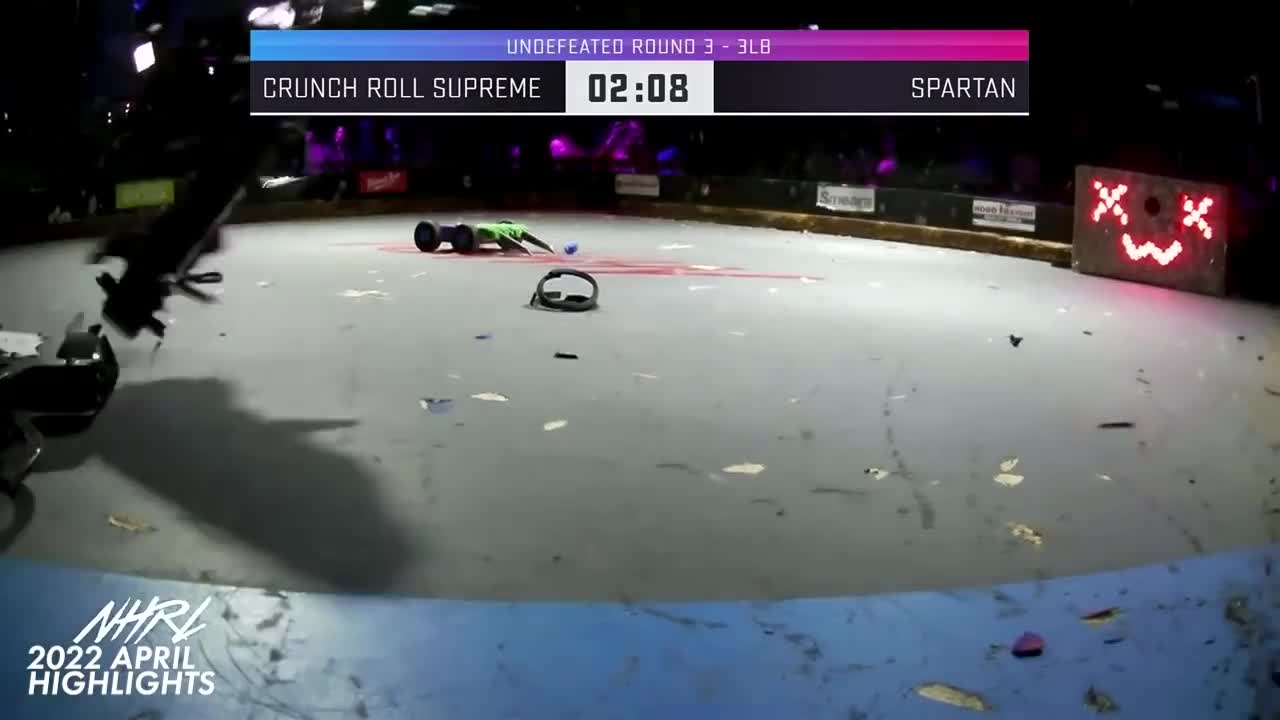belt: (527, 268, 602, 313)
combatbot: (97, 169, 239, 345), (0, 307, 119, 483), (411, 219, 556, 256)
housebot: (1068, 164, 1243, 302)
